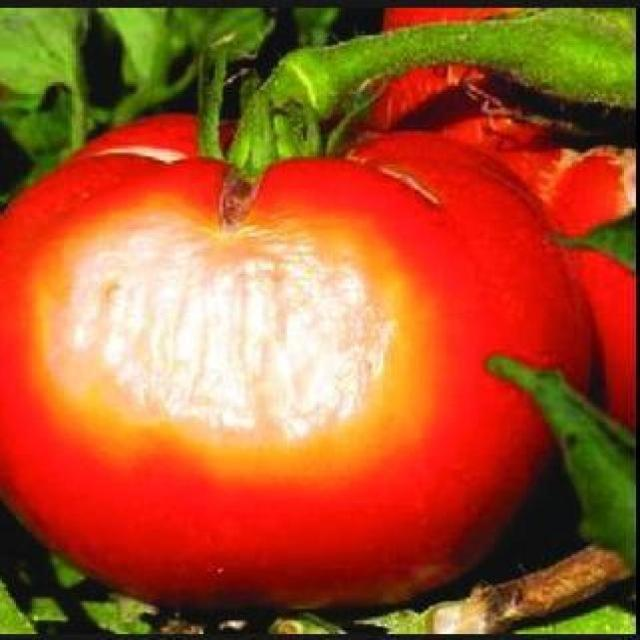Sunscald Fruit: (13, 126, 293, 324)
